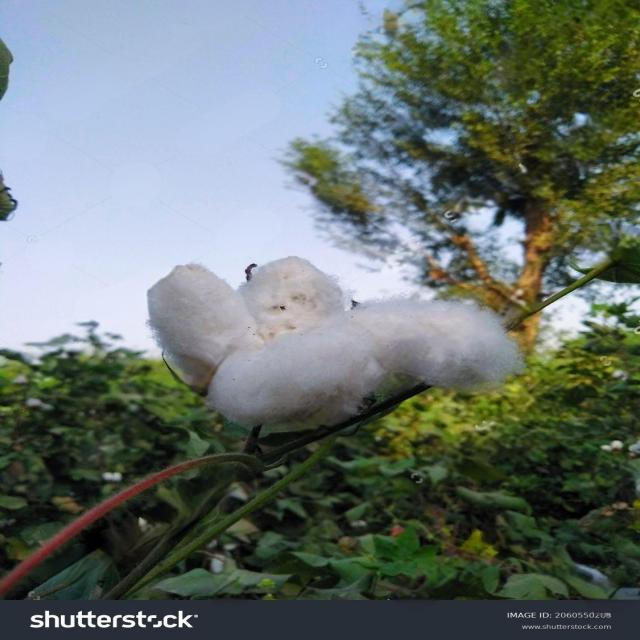Leaf: (108, 237, 547, 445)
